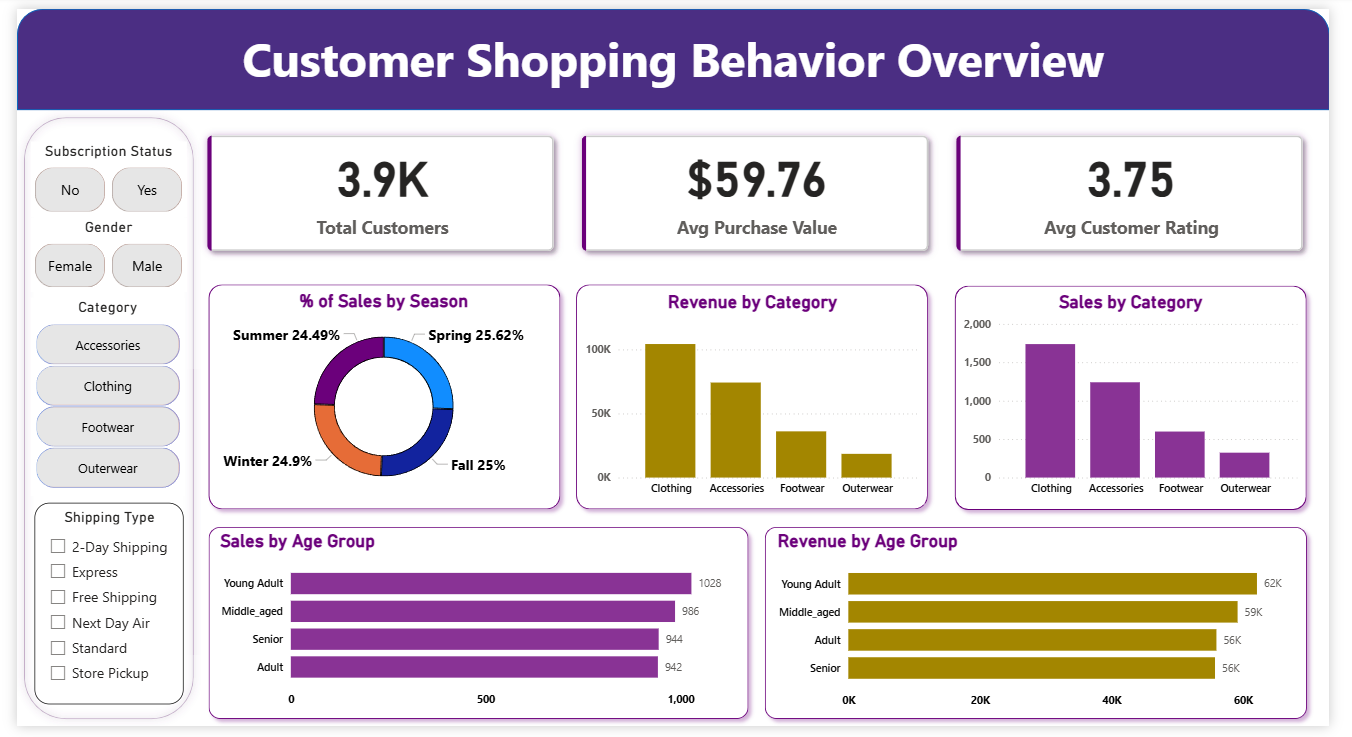

The dashboard page shown, as its layout file describes it:
{"tool":"powerbi","page":{"name":"Page 1","canvas":[1500,820],"ordinal":0},"visuals":[{"type":"cardVisual","fields":{"Data":["customer_behavior customer.Number of Customers","customer_behavior customer.Average Purchase Amount","customer_behavior customer.Average Review Rating"]},"box":[188.3,115,1311.7,190],"z":0},{"type":"shape","box":[0,0,1500,115.7],"z":1000},{"type":"textbox","box":[0,0,1500,115.7],"z":2000},{"type":"shape","box":[1062.9,307.1,420,274.3],"z":3000},{"type":"shape","box":[630,305,420,275],"z":4000},{"type":"shape","box":[210,305,420,275],"z":5000},{"type":"donutChart","title":"% of Sales by Season","fields":{"Y":["CountNonNull(customer_behavior customer.customer_id)"],"Category":["customer_behavior customer.season"]},"box":[227.1,321.4,384.3,242.9],"z":6000},{"type":"clusteredColumnChart","title":"Revenue by Category","fields":{"Y":["Sum(customer_behavior customer.purchase_amount)"],"Category":["customer_behavior customer.category"]},"box":[644.3,322.9,392.9,242.9],"z":7000},{"type":"clusteredColumnChart","title":"Sales by Category","fields":{"Category":["customer_behavior customer.category"],"Y":["CountNonNull(customer_behavior customer.customer_id)"]},"box":[1077.1,322.9,391.4,242.9],"z":8000},{"type":"shape","box":[0,116,210,704],"z":9000},{"type":"advancedSlicerVisual","title":"Subscription Status","fields":{"Values":["customer_behavior customer.subscription_status"]},"box":[16,151,178,86],"z":10000},{"type":"advancedSlicerVisual","title":"Category","fields":{"Values":["customer_behavior customer.category"]},"box":[15,330,176,226],"z":11000},{"type":"slicer","title":"Shipping Type","fields":{"Values":["customer_behavior customer.shipping_type"]},"box":[20,564,170,230],"z":12000},{"type":"advancedSlicerVisual","title":"Gender","fields":{"Values":["customer_behavior customer.gender"]},"box":[16,238,178,85],"z":13000},{"type":"shape","box":[210,582.5,635,237.5],"z":13001},{"type":"shape","box":[845,582.5,637.5,237.5],"z":13002},{"type":"clusteredBarChart","title":"Revenue by Age Group","fields":{"Y":["Sum(customer_behavior customer.purchase_amount)"],"Category":["customer_behavior customer.age_group"]},"box":[864.3,595.7,598.6,212.9],"z":13003},{"type":"clusteredBarChart","title":"Sales by Age Group","fields":{"Category":["customer_behavior customer.age_group"],"Y":["CountNonNull(customer_behavior customer.customer_id)"]},"box":[227.1,595.7,601.4,211.4],"z":13004}]}

Visuals, with their boxes in screenshot pixels (x1, y1, x2, y2), scaled from the page's 1500x820 canvas onto the 1352x737 screenshot:
cardVisual - customer_behavior customer.Number of Customers x customer_behavior customer.Average Purchase Amount: pyautogui.locateOnScreen(170, 103, 1351, 274)
shape: pyautogui.locateOnScreen(0, 0, 1351, 104)
textbox: pyautogui.locateOnScreen(0, 0, 1351, 104)
shape: pyautogui.locateOnScreen(958, 276, 1337, 523)
shape: pyautogui.locateOnScreen(568, 274, 946, 521)
shape: pyautogui.locateOnScreen(189, 274, 568, 521)
"% of Sales by Season" donutChart: pyautogui.locateOnScreen(205, 289, 551, 507)
"Revenue by Category" clusteredColumnChart: pyautogui.locateOnScreen(581, 290, 935, 509)
"Sales by Category" clusteredColumnChart: pyautogui.locateOnScreen(971, 290, 1324, 509)
shape: pyautogui.locateOnScreen(0, 104, 189, 736)
"Subscription Status" advancedSlicerVisual: pyautogui.locateOnScreen(14, 136, 175, 213)
"Category" advancedSlicerVisual: pyautogui.locateOnScreen(14, 297, 172, 500)
"Shipping Type" slicer: pyautogui.locateOnScreen(18, 507, 171, 714)
"Gender" advancedSlicerVisual: pyautogui.locateOnScreen(14, 214, 175, 290)
shape: pyautogui.locateOnScreen(189, 524, 762, 736)
shape: pyautogui.locateOnScreen(762, 524, 1336, 736)
"Revenue by Age Group" clusteredBarChart: pyautogui.locateOnScreen(779, 535, 1319, 727)
"Sales by Age Group" clusteredBarChart: pyautogui.locateOnScreen(205, 535, 747, 725)
